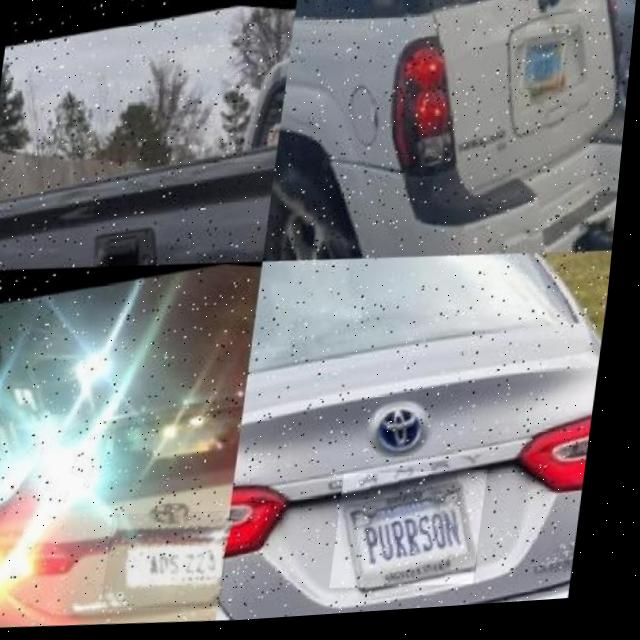LicensePlate: (351, 477, 488, 593), (112, 510, 243, 615), (526, 32, 566, 95)
